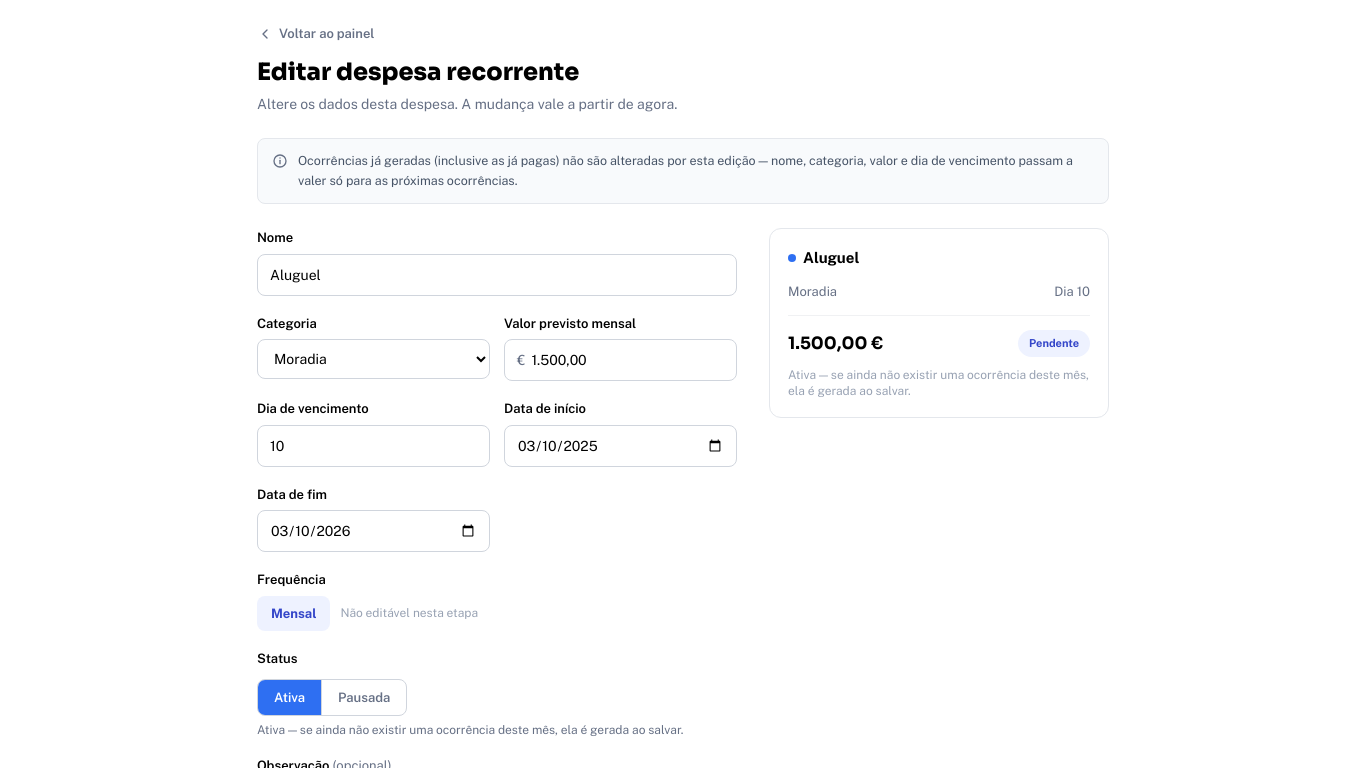
Test case: EditarDespesaRecorrenteComponent › unsaved-changes confirmation (FR-013, FR-014, US3) › shows the exit-confirmation dialog when a field differs from its loaded value
The image size is (1366, 768).
Replace the text in the field with test id "nome-input" with "Aluguel novo". click: x=497, y=275
box: x1=257 y1=254 x2=737 y2=296
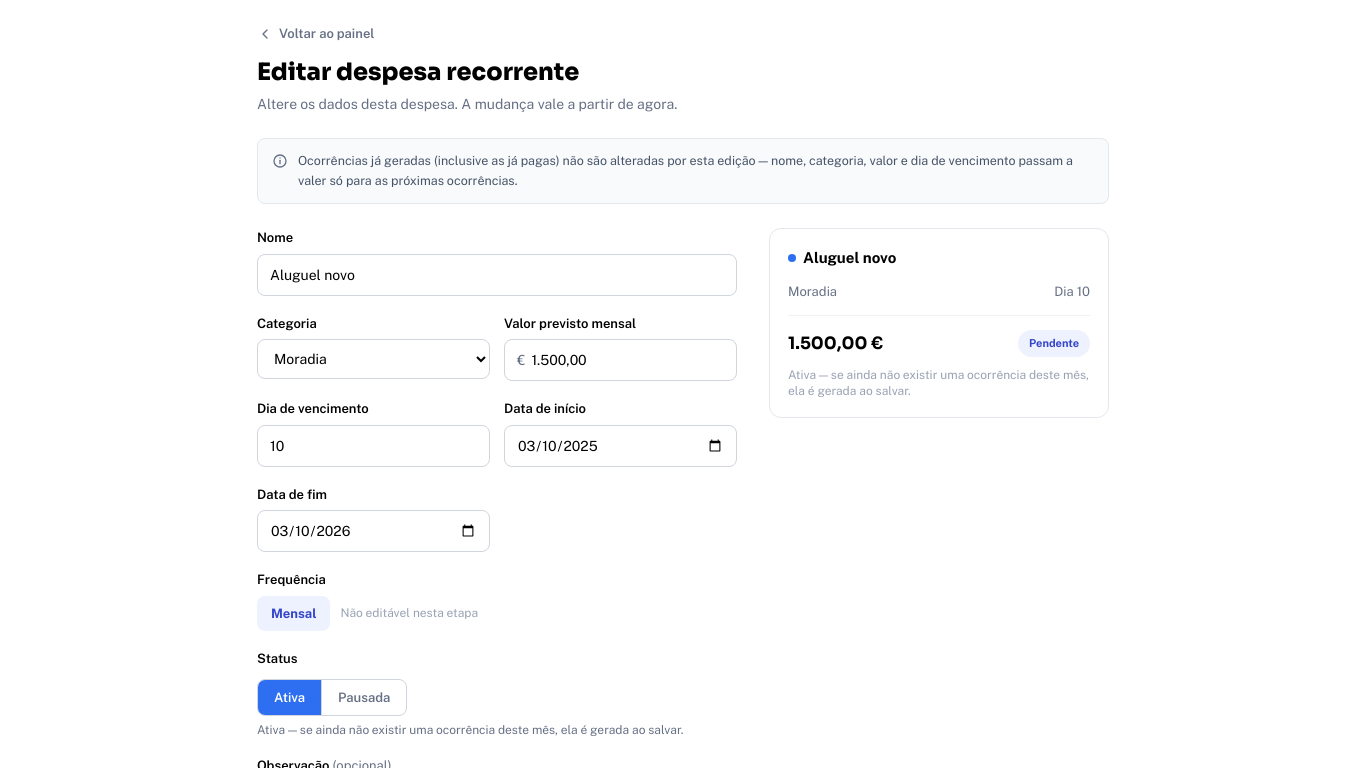
Click the button with test id "voltar-painel-btn". click: x=316, y=34
box: x1=257 y1=24 x2=374 y2=44
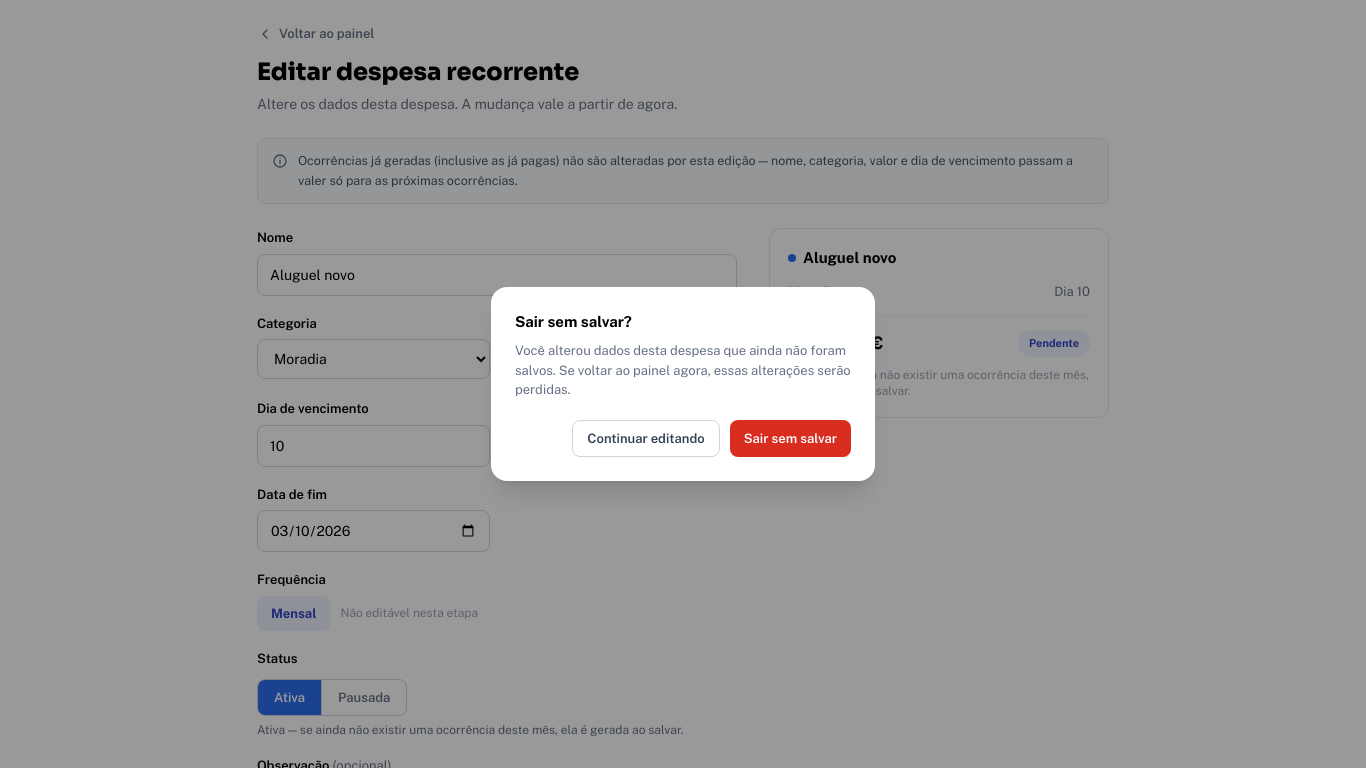
Result: the element with test id "exit-confirm-overlay" is shown
